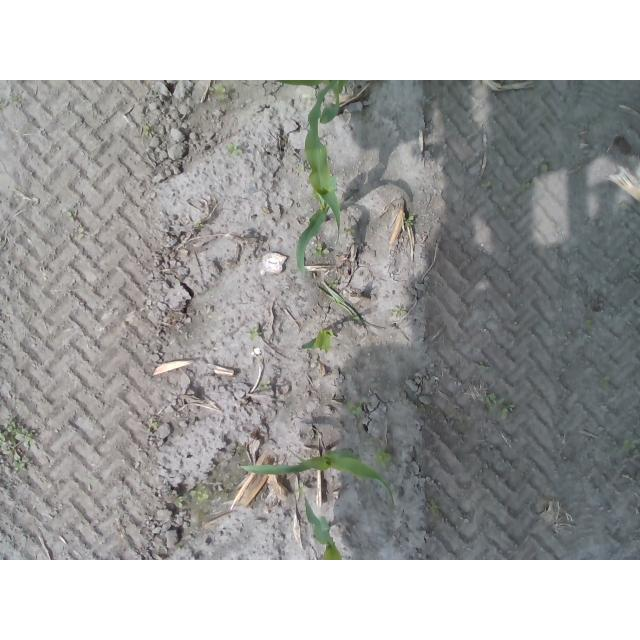Maize: (241, 447, 396, 506), (295, 80, 342, 273), (318, 280, 386, 335), (274, 80, 343, 124), (302, 494, 342, 560), (299, 327, 331, 357)
Weeds: (0, 420, 36, 474), (482, 393, 511, 418), (175, 488, 210, 506), (374, 447, 395, 470), (345, 400, 364, 416), (224, 143, 244, 157), (311, 246, 330, 258), (623, 438, 640, 451), (214, 84, 227, 97), (392, 307, 409, 316), (248, 327, 260, 339), (147, 419, 159, 430), (405, 216, 416, 225), (7, 95, 18, 104), (196, 220, 205, 229), (331, 280, 340, 288)
